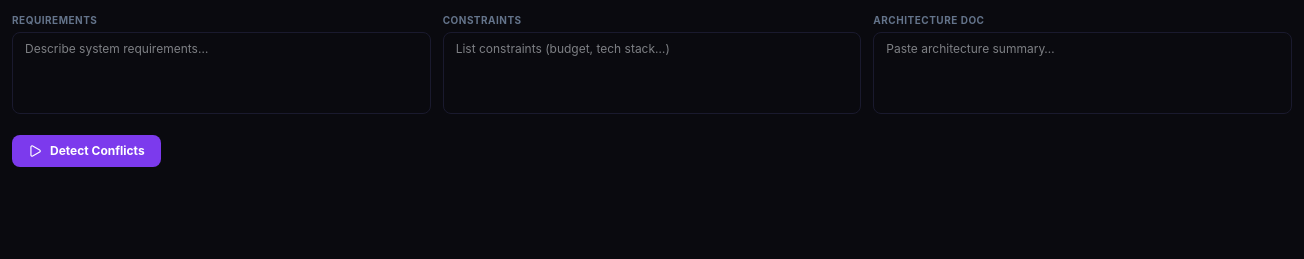
Scenario: conflict resolution is org-wide (KAN-154) › shows a conflict resolved by a colleague, with who resolved it
What coordinates should you click on to do the following:
click the button "Detect Conflicts"
I would click on:
 (86, 151)
Its box is [12, 135, 161, 167].
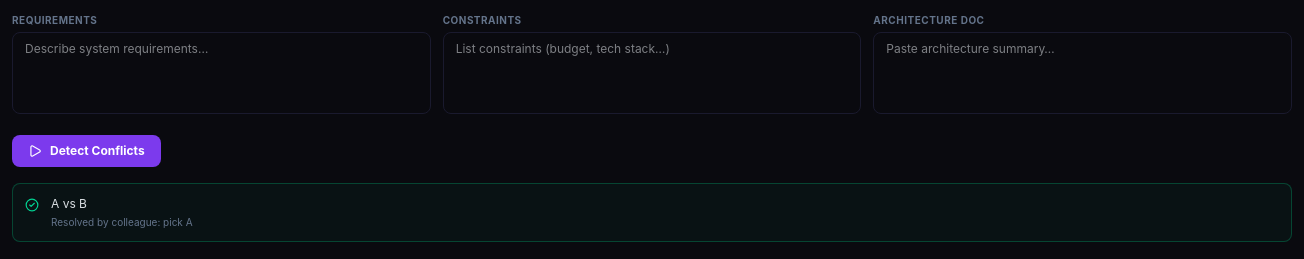
Check: the text with test id "resolved-by" shows "colleague", box [94, 216, 158, 228]
